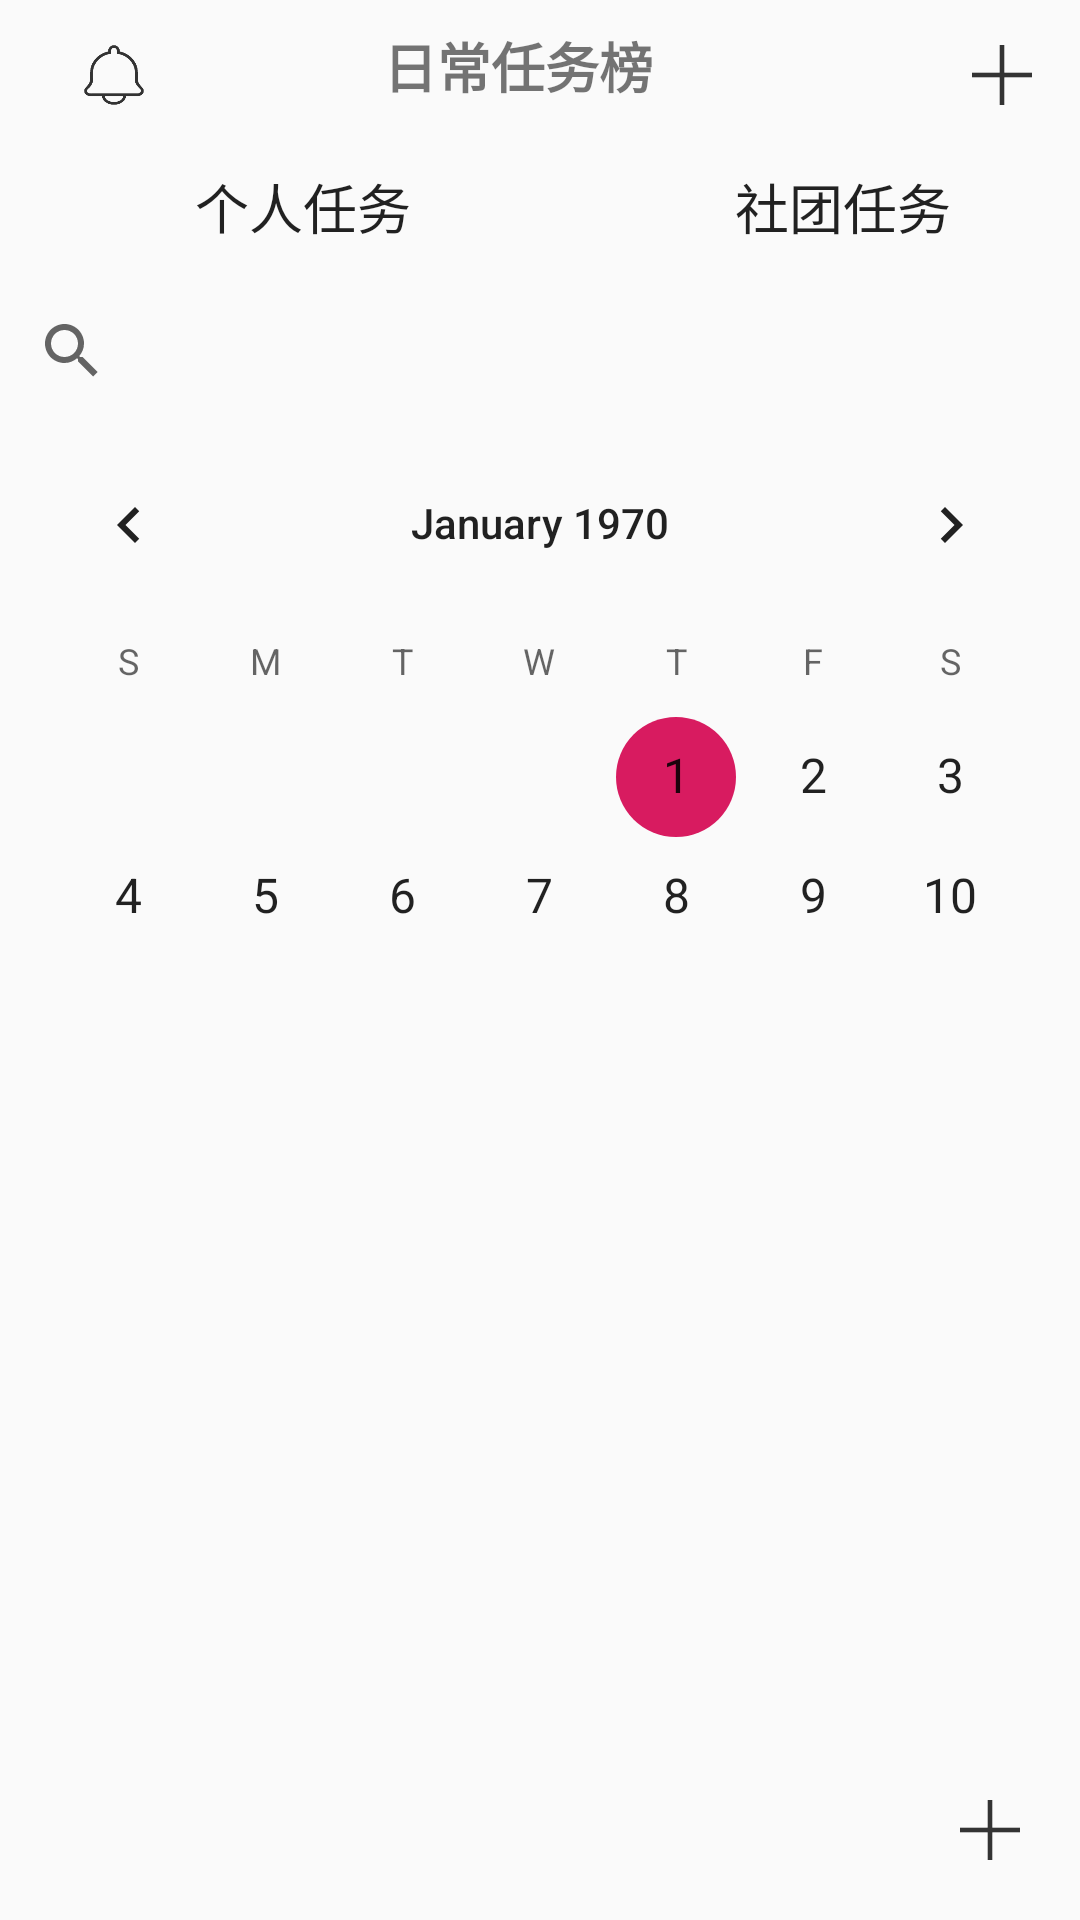

Icons on this 1080×1920 Android screen, each with its box as (x1=x1, y1=y1, x2=x2, y2=y2):
add: (x1=972, y1=45, x2=1032, y2=105), (x1=960, y1=1800, x2=1020, y2=1860)
